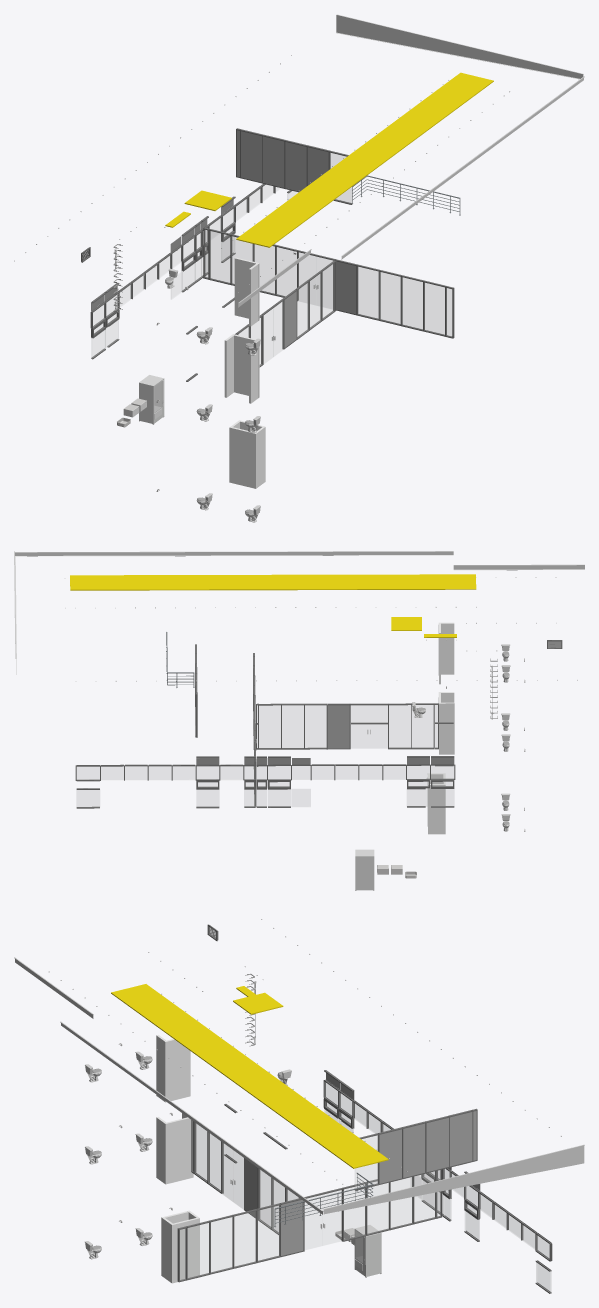
The model's file is pt-111-puesto-mando-hq-p06-v00.glb.
3 views of the same model, one above another, from view 1: azimuth 30°, elevation 25°; view 2: azimuth 150°, elevation 25°; view 3: azimuth 270°, elevation 25° (orthographic). The views are drawn at different scales.
Parts seen in each view (by area): view 1: 04HRXt$LH1SvahsVE36xtg, 1EySTuCUP0JAepCCHxqhqP, 2pCyeh8Cj3vP_btFmL4FpI, 0UHz84dynFSvQS8m6z8BUK, 28s8noEn5ErQ6hiuVYkbhm, 1UwNWolgLChRHn6lhj_Brq, 0i7wIpcAL9hP2HhayL$0pg, 0i7wIpcAL9hP2HhayL$0pl, 1vPRBRNYrDqwCxpG1ueg7W, 2pCyeh8Cj3vP_btFmL4Fp8, 2pCyeh8Cj3vP_btFmL4FpA, 2pCyeh8Cj3vP_btFmL4FpE (+11 smaller); view 2: 04HRXt$LH1SvahsVE36xtg, 28s8noEn5ErQ6hiuVYkbhm, 2pCyeh8Cj3vP_btFmL4FsX, 1vPRBRNYrDqwCxpG1ueg6H, 2pCyeh8Cj3vP_btFmL4Fsf, 2pCyeh8Cj3vP_btFmL4FtV, 2pCyeh8Cj3vP_btFmL4Fsd, 2pCyeh8Cj3vP_btFmL4Fsb, 1UwNWolgLChRHn6lhj_Brq, 2pCyeh8Cj3vP_btFmL4FtT, 1EySTuCUP0JAepCCHxqh_s, 0UHz84dynFSvQS8m6z8BMQ (+2 smaller); view 3: 04HRXt$LH1SvahsVE36xtg, 1EySTuCUP0JAepCCHxqhqP, 0lrbCSOxPD_QXFHO0xcsO4, 2pCyeh8Cj3vP_btFmL4FpI, 0P0T2el4T3H93Wnb0Mxkr8, 0UHz84dynFSvQS8m6z8BNs, 1UwNWolgLChRHn6lhj_Brq, 28s8noEn5ErQ6hiuVYkbhm, 2pCyeh8Cj3vP_btFmL4FpC, 1vPRBRNYrDqwCxpG1ueg7W, 2pCyeh8Cj3vP_btFmL4FsX, 0i7wIpcAL9hP2HhayL$0pl (+20 smaller).
Boxes of the visible parts, left/top/right/bottom form: 04HRXt$LH1SvahsVE36xtg: left=236, top=72, right=493, bottom=247; 1EySTuCUP0JAepCCHxqhqP: left=336, top=14, right=583, bottom=79; 2pCyeh8Cj3vP_btFmL4FpI: left=298, top=252, right=332, bottom=308; 0UHz84dynFSvQS8m6z8BUK: left=231, top=427, right=253, bottom=488; 28s8noEn5ErQ6hiuVYkbhm: left=341, top=76, right=584, bottom=259; 1UwNWolgLChRHn6lhj_Brq: left=139, top=375, right=164, bottom=424; 0i7wIpcAL9hP2HhayL$0pg: left=263, top=136, right=284, bottom=187; 0i7wIpcAL9hP2HhayL$0pl: left=241, top=131, right=262, bottom=182; 1vPRBRNYrDqwCxpG1ueg7W: left=336, top=261, right=356, bottom=313; 2pCyeh8Cj3vP_btFmL4Fp8: left=424, top=283, right=444, bottom=334; 2pCyeh8Cj3vP_btFmL4FpA: left=402, top=277, right=422, bottom=329; 2pCyeh8Cj3vP_btFmL4FpE: left=358, top=267, right=378, bottom=318; 04HRXt$LH1SvahsVE36xtg: left=70, top=574, right=476, bottom=590; 28s8noEn5ErQ6hiuVYkbhm: left=15, top=551, right=453, bottom=556; 2pCyeh8Cj3vP_btFmL4FsX: left=351, top=705, right=387, bottom=748; 1vPRBRNYrDqwCxpG1ueg6H: left=327, top=705, right=349, bottom=748; 2pCyeh8Cj3vP_btFmL4Fsf: left=259, top=705, right=280, bottom=748; 2pCyeh8Cj3vP_btFmL4FtV: left=389, top=705, right=410, bottom=747; 2pCyeh8Cj3vP_btFmL4Fsd: left=282, top=705, right=303, bottom=747; 2pCyeh8Cj3vP_btFmL4Fsb: left=305, top=705, right=326, bottom=747; 1UwNWolgLChRHn6lhj_Brq: left=355, top=849, right=374, bottom=890; 2pCyeh8Cj3vP_btFmL4FtT: left=412, top=705, right=433, bottom=747; 1EySTuCUP0JAepCCHxqh_s: left=453, top=564, right=584, bottom=570; 0UHz84dynFSvQS8m6z8BMQ: left=430, top=784, right=445, bottom=834; 04HRXt$LH1SvahsVE36xtg: left=111, top=984, right=388, bottom=1168; 1EySTuCUP0JAepCCHxqhqP: left=323, top=1144, right=584, bottom=1214; 0lrbCSOxPD_QXFHO0xcsO4: left=164, top=1117, right=193, bottom=1184; 2pCyeh8Cj3vP_btFmL4FpI: left=305, top=1190, right=341, bottom=1249; 0P0T2el4T3H93Wnb0Mxkr8: left=164, top=1039, right=190, bottom=1102; 0UHz84dynFSvQS8m6z8BNs: left=173, top=1217, right=199, bottom=1282; 1UwNWolgLChRHn6lhj_Brq: left=354, top=1225, right=381, bottom=1277; 28s8noEn5ErQ6hiuVYkbhm: left=60, top=1021, right=322, bottom=1214; 2pCyeh8Cj3vP_btFmL4FpC: left=234, top=1211, right=256, bottom=1266; 1vPRBRNYrDqwCxpG1ueg7W: left=281, top=1200, right=303, bottom=1255; 2pCyeh8Cj3vP_btFmL4FsX: left=222, top=1142, right=243, bottom=1209; 0i7wIpcAL9hP2HhayL$0pl: left=450, top=1112, right=472, bottom=1166.
Size of the model in its own units: 32.49 by 13.58 by 25.25.
